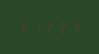five: (18, 18, 29, 33)
one: (30, 19, 41, 33)
seven: (66, 20, 77, 34)
two: (42, 19, 53, 34), (54, 20, 65, 34)
